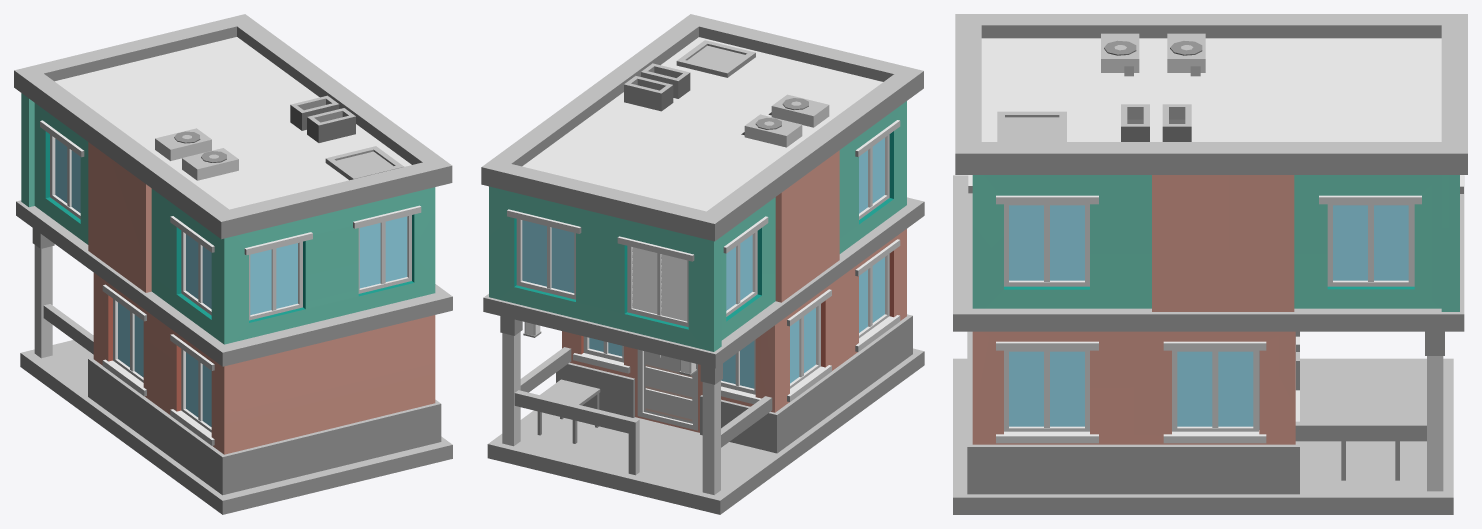
The model's file is building_0_2_2_4.glb.
The picture shows the model from 3 angles, left to right: view 1: azimuth 30°, elevation 25°; view 2: azimuth 150°, elevation 25°; view 3: azimuth 270°, elevation 25°; orthographic projection. The views are drawn at different scales.
Parts seen in each view (by area): view 1: building_0_2_2_4; view 2: building_0_2_2_4; view 3: building_0_2_2_4.
Boxes of the visible parts, x1,y1,x2,y2 form: building_0_2_2_4: [14, 14, 452, 514]; building_0_2_2_4: [481, 14, 924, 514]; building_0_2_2_4: [953, 14, 1467, 514].
Bounding box in the file's own units: 9.84 × 12.2 × 15.34.
1 material, 1 textured.
